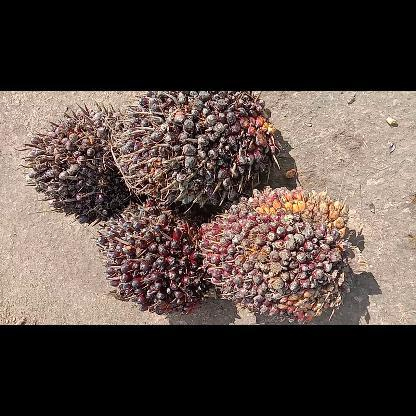Kurang masak: (196, 186, 372, 324), (118, 90, 280, 208), (13, 104, 130, 224), (100, 206, 218, 316)
